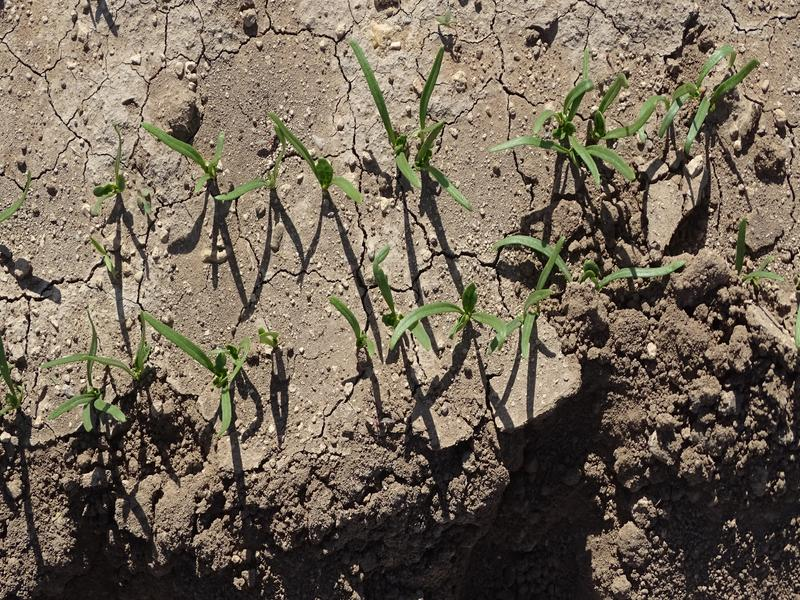Espinaca: (346, 238, 645, 369), (518, 59, 754, 171), (50, 322, 286, 431), (141, 123, 362, 203), (369, 54, 470, 214)
